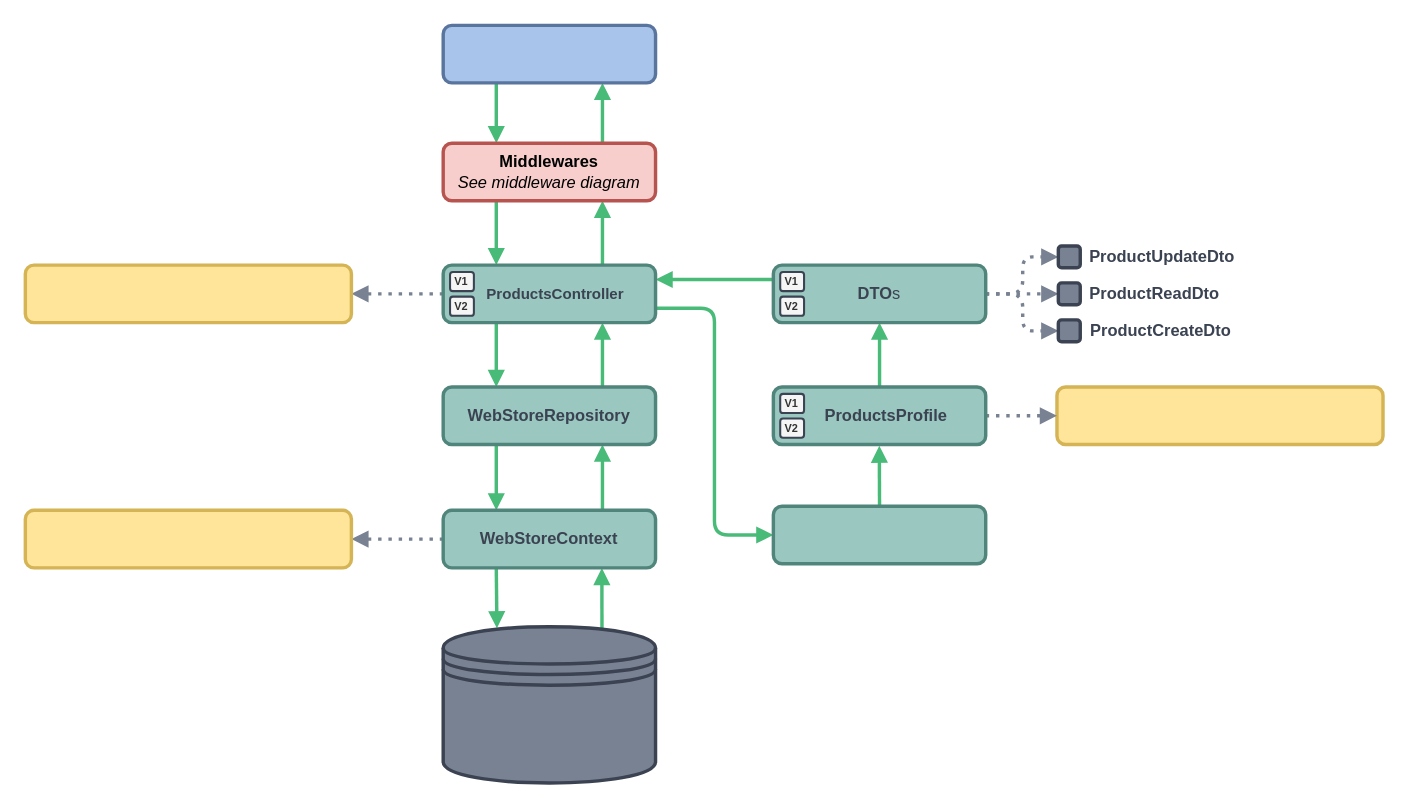
Image size: 1408x808. Some labels were removed from this diagram. Each missing label, with the centre of its shape:
"Client Request Response" goes at point 549,53.
"ControllerBase Microsoft.AspNetCore.Mvc" goes at point 188,293.
"DbContext Microsoft.EntityFrameworkCore" goes at point 188,538.
"MSSQL .\SQLExpress" goes at point 549,704.
"ProductModel" goes at point 879,534.
"Profile AutoMapper" goes at point 1219,415.
